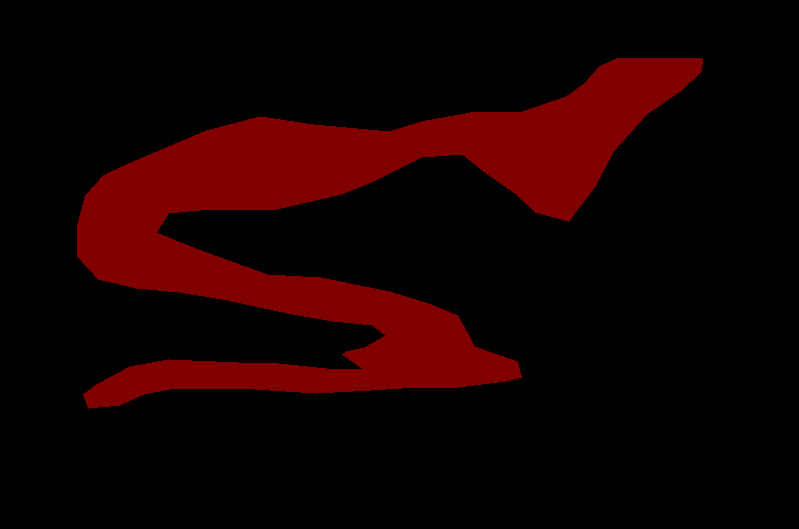fire: (77, 58, 702, 408)
